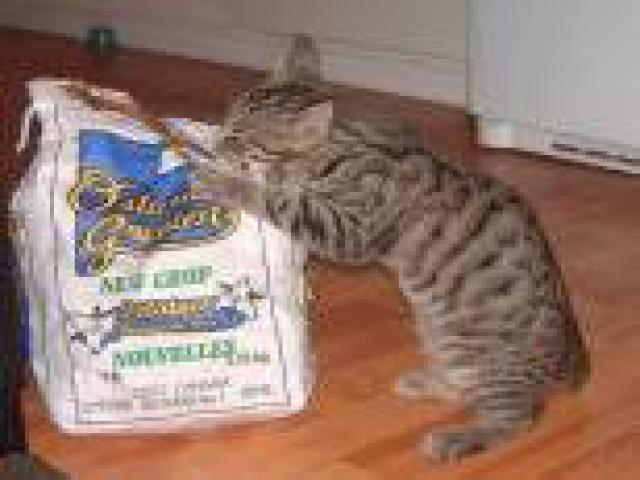cat: (188, 42, 595, 459)
